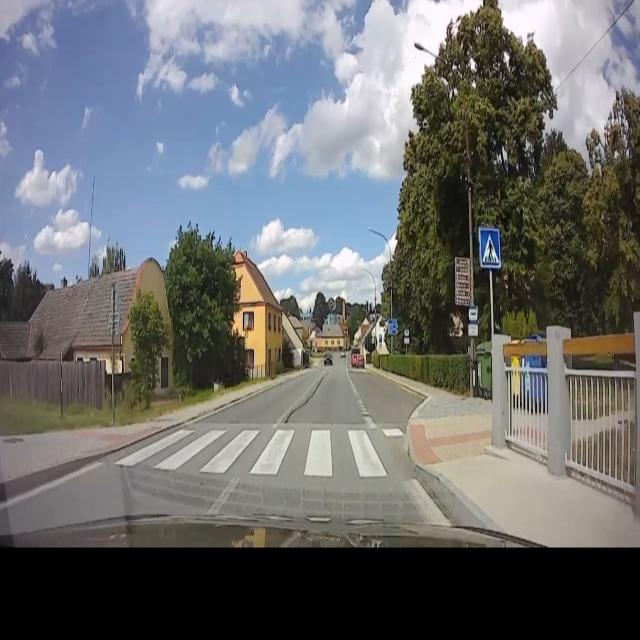Pedestrian crosswalk: (130, 412, 398, 486), (477, 225, 503, 269)
